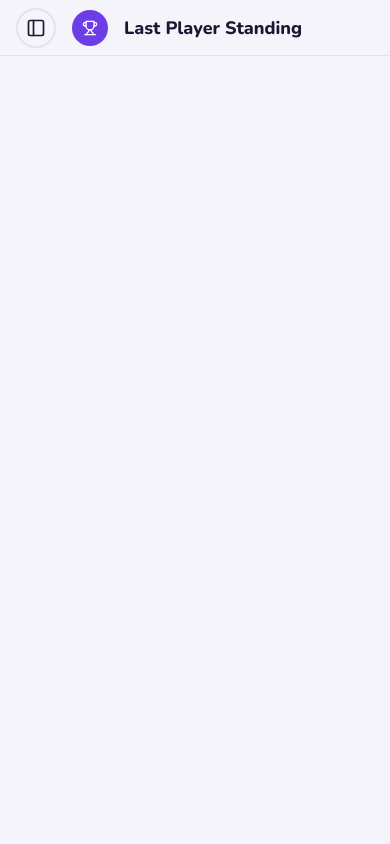
it: MobileNav › lists only Home for a signed-out visitor
Click the button named "Open menu": x=36, y=28 [16, 8, 56, 48]
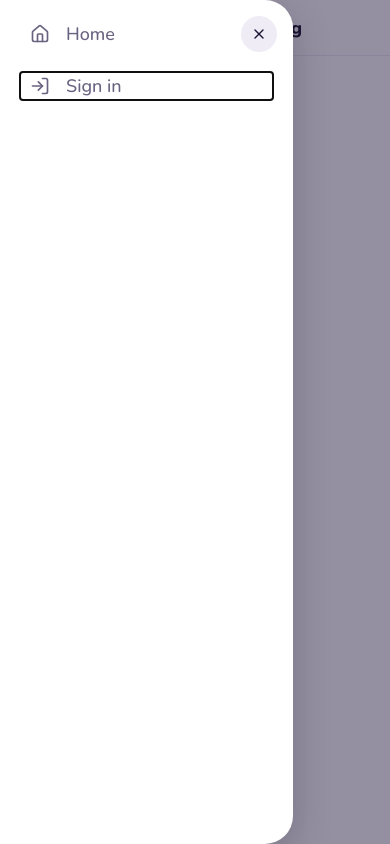
Check: the links read "Home", in this order, box [30, 22, 115, 46]
